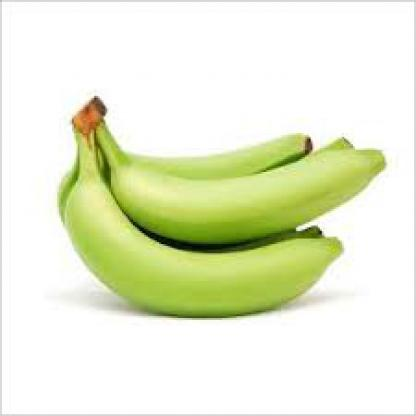Fresh: (48, 48, 392, 351)
